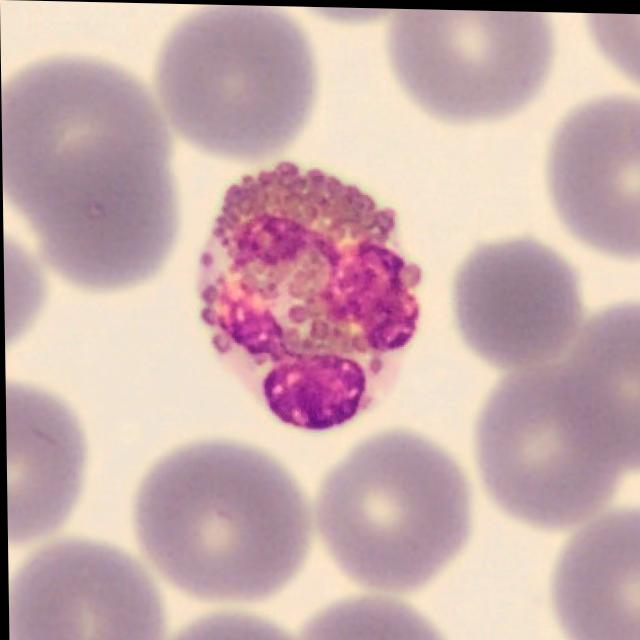Eosinofilo: (197, 161, 422, 432)
